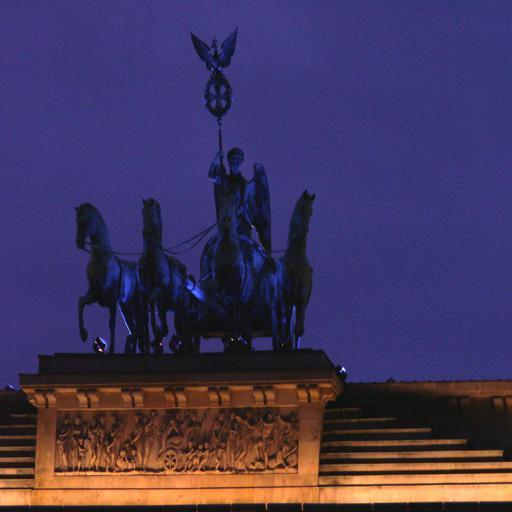horse: (76, 202, 136, 356), (134, 196, 189, 356), (207, 192, 258, 329), (271, 188, 314, 348)
